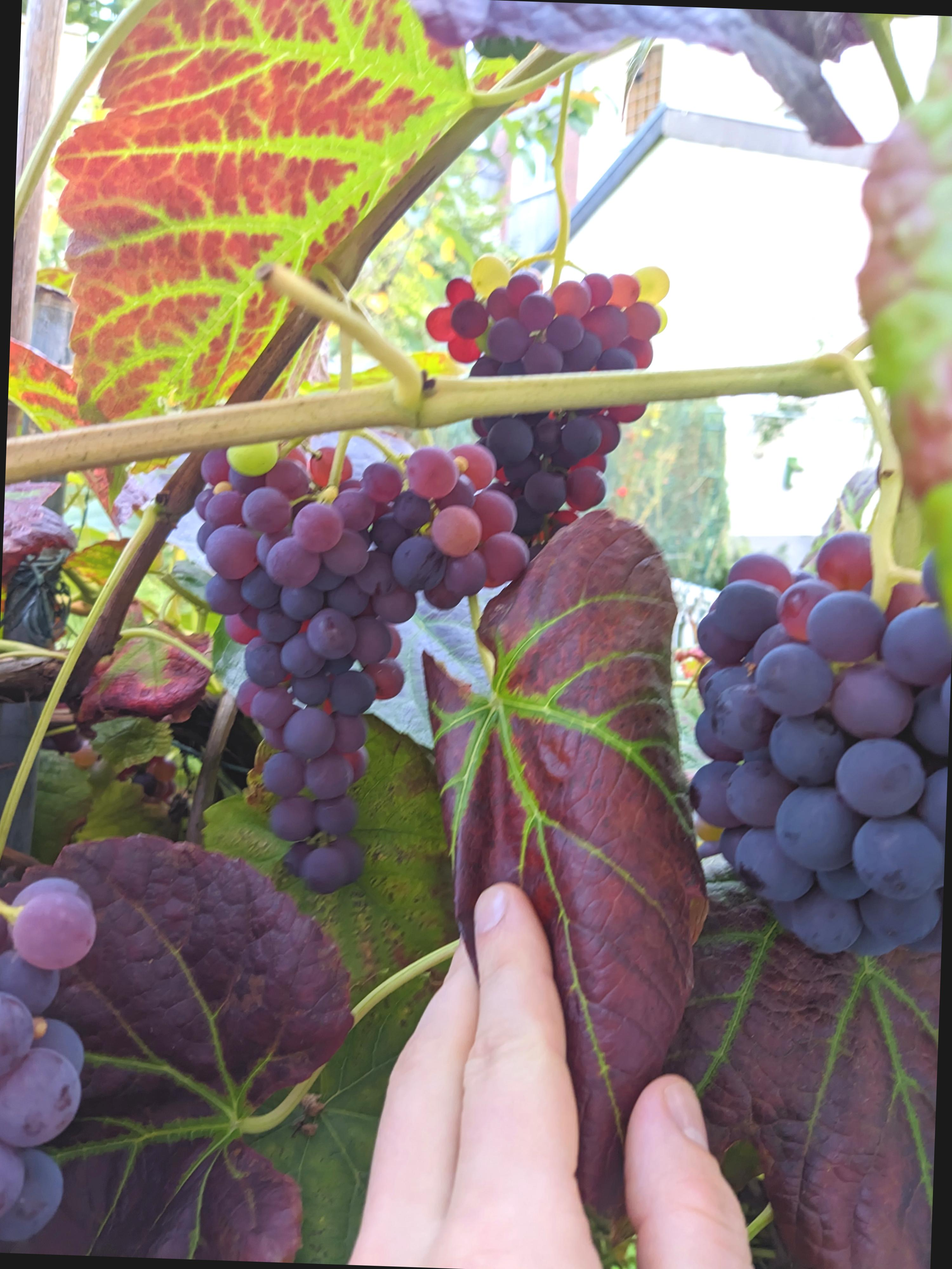Grape Unripe: (203, 417, 466, 880), (703, 508, 952, 947), (440, 220, 692, 543), (0, 860, 124, 1229)
